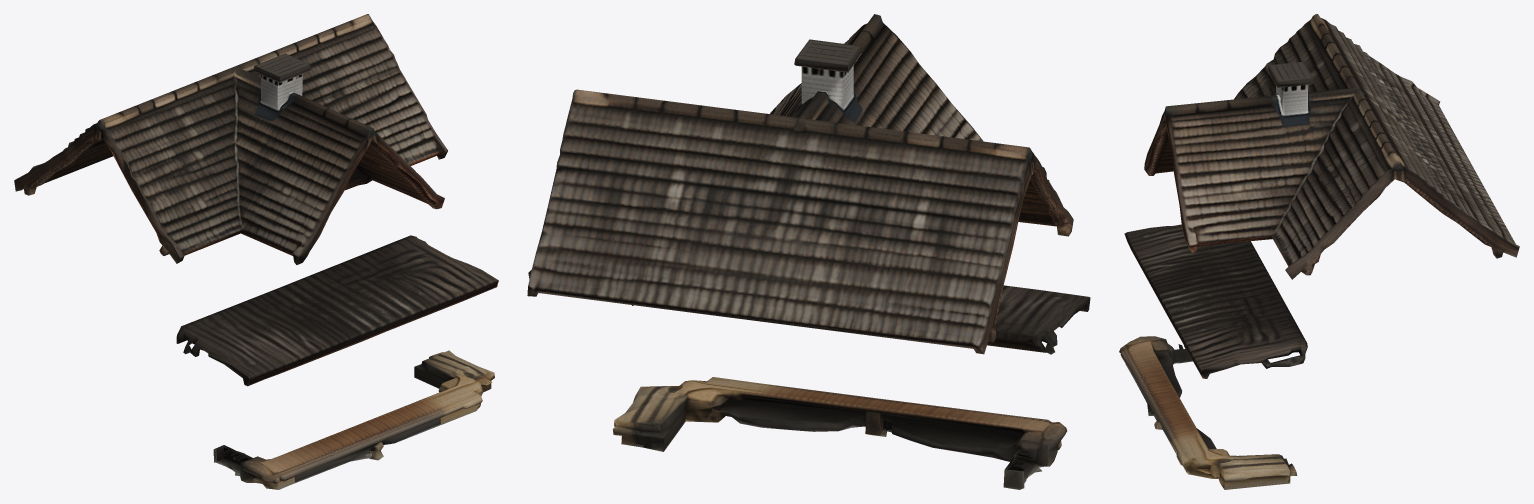
File: roof2.obj
The picture shows the model from 3 angles, left to right: view 1: azimuth 30°, elevation 25°; view 2: azimuth 150°, elevation 25°; view 3: azimuth 270°, elevation 25°; orthographic projection. The views are drawn at different scales.
Parts seen in each view (by area): view 1: Roofgeom1; view 2: Roofgeom1; view 3: Roofgeom1.
Part boxes in pixels (left/top/right/bottom): Roofgeom1: left=14, top=14, right=498, bottom=489; Roofgeom1: left=527, top=14, right=1090, bottom=489; Roofgeom1: left=1119, top=14, right=1519, bottom=489.
Size of the model in its own units: 22.24 by 20 by 21.12.
Materials: 1 (1 with a texture image).
